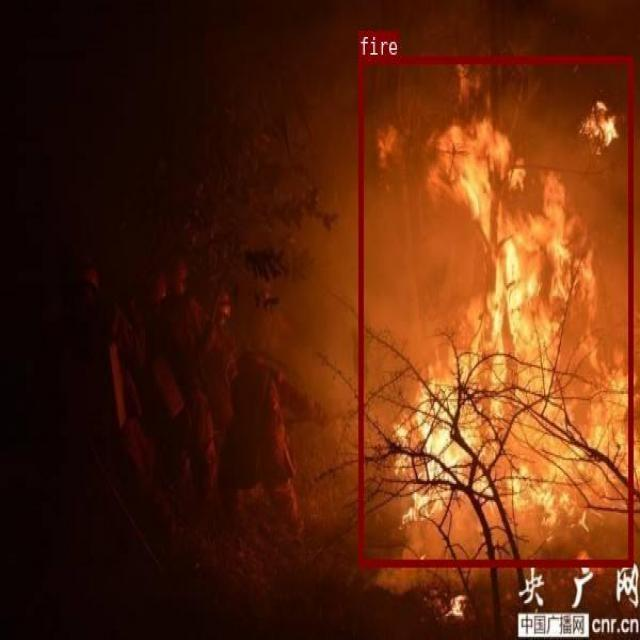fire: (358, 56, 633, 565)
